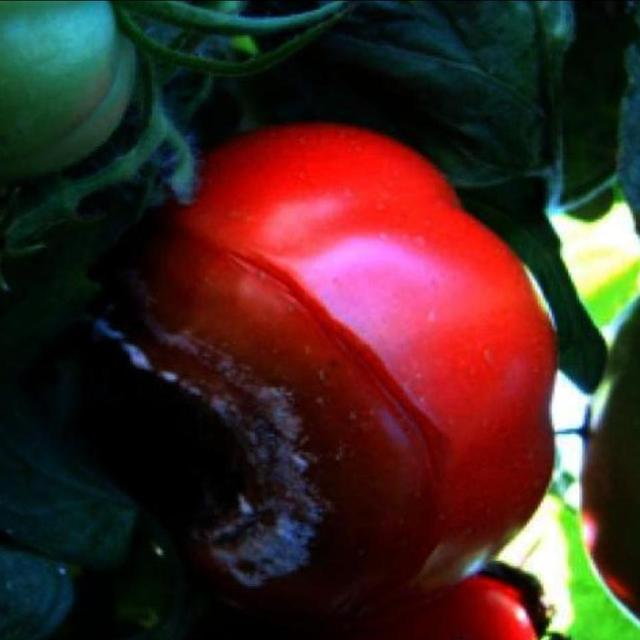Blossom End Rot Fruit: (53, 172, 219, 377)
